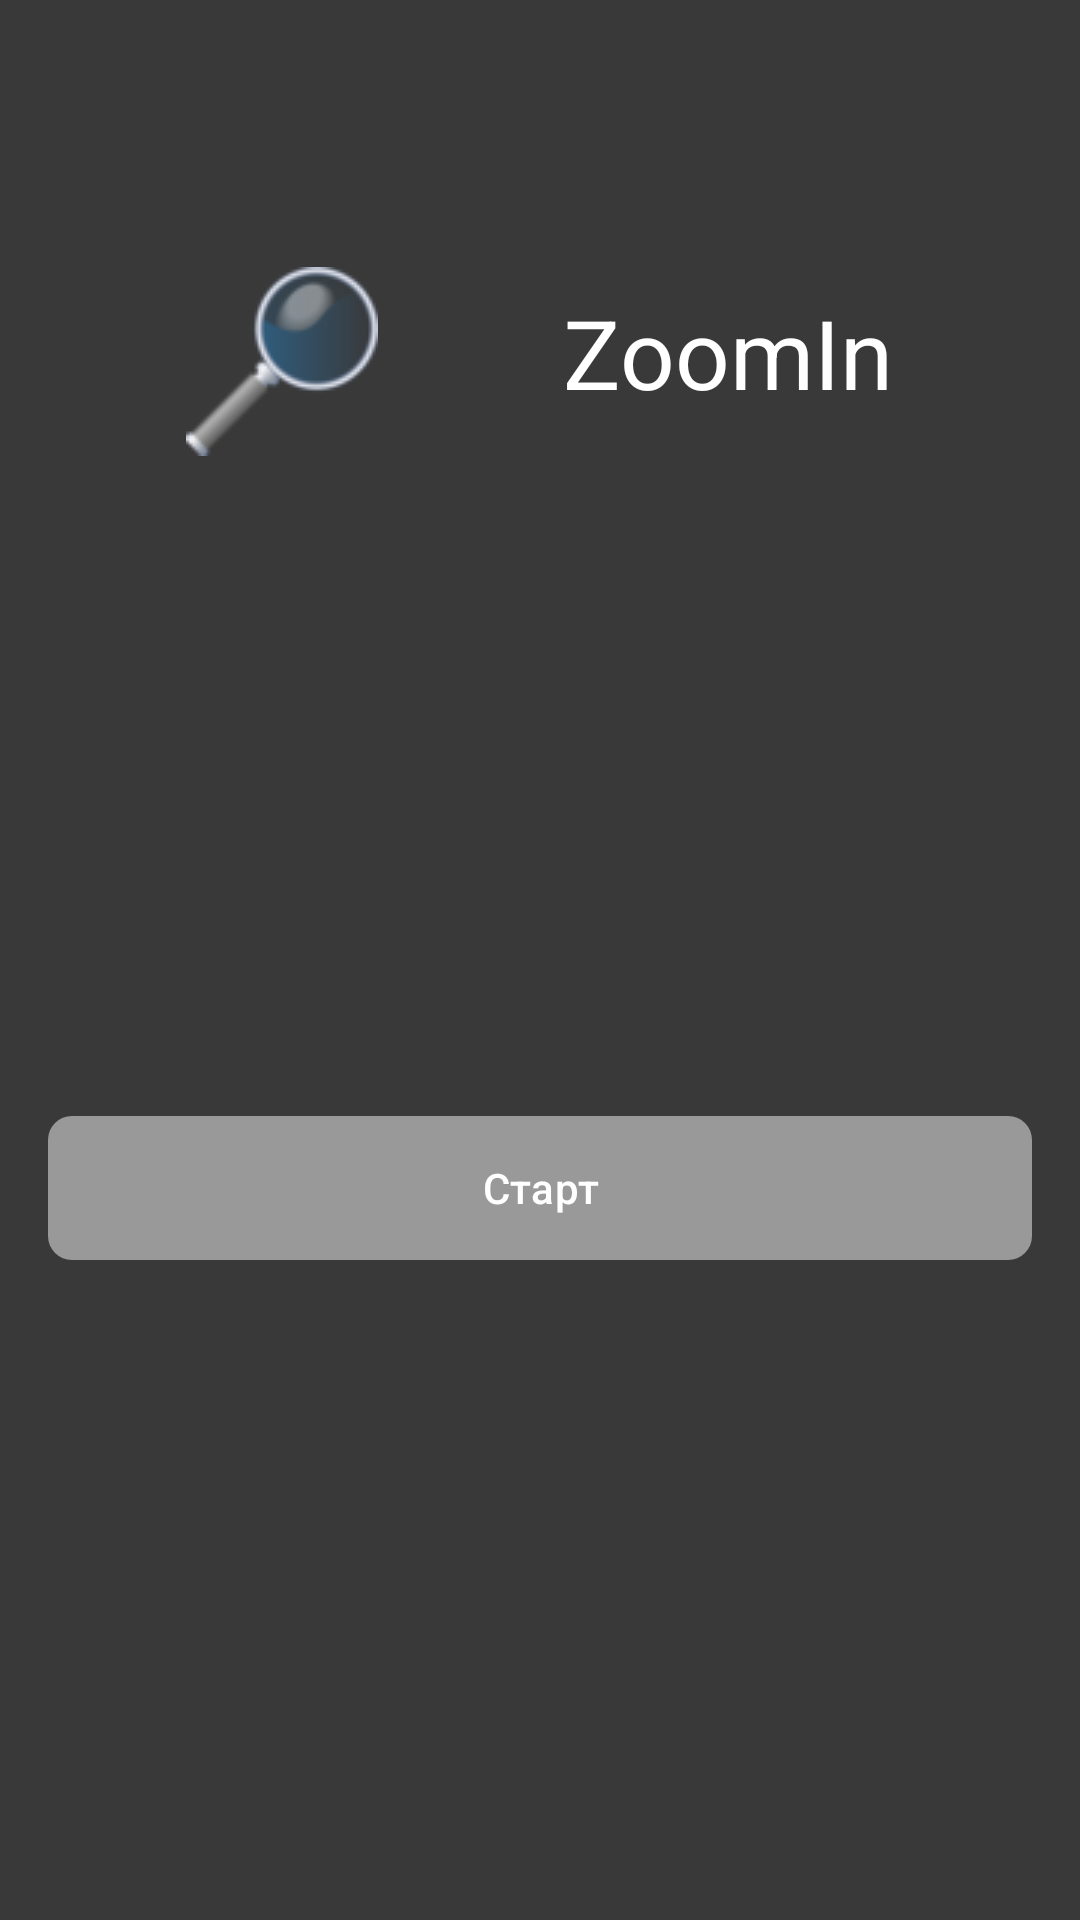

Icon click points for this 1080×1920 phone screenshot, format point (x, y):
magnifying glass: point (282, 361)
